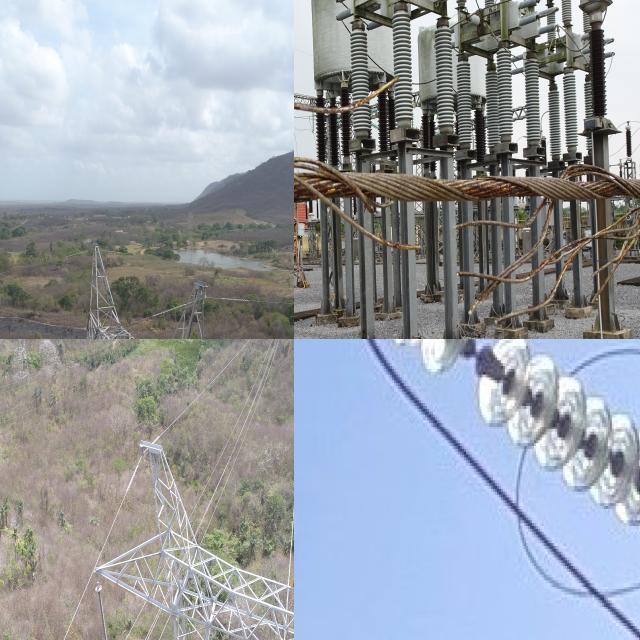杆塔: (95, 437, 294, 640), (81, 237, 248, 339), (0, 235, 7, 317)
正常绝缘子: (350, 339, 640, 540), (93, 579, 115, 640)
电缆破损: (294, 71, 640, 326)
绝缘子破损: (470, 339, 497, 380)
